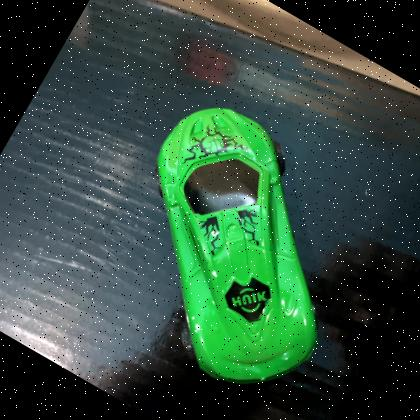Car: (70, 83, 402, 420)
